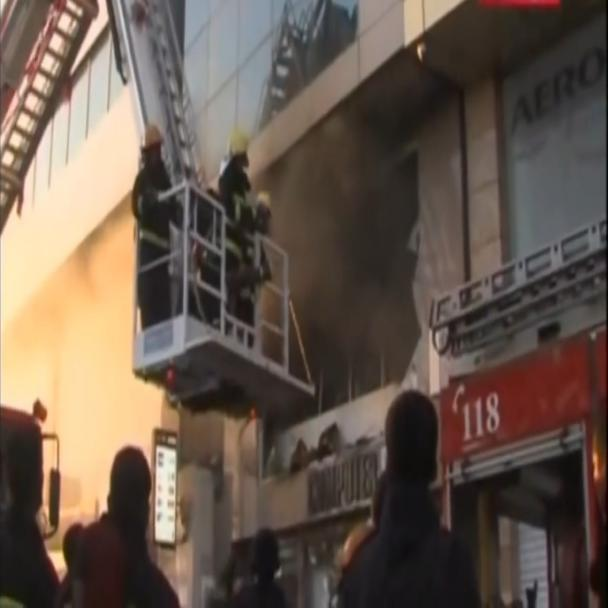smoke: (0, 31, 380, 543)
